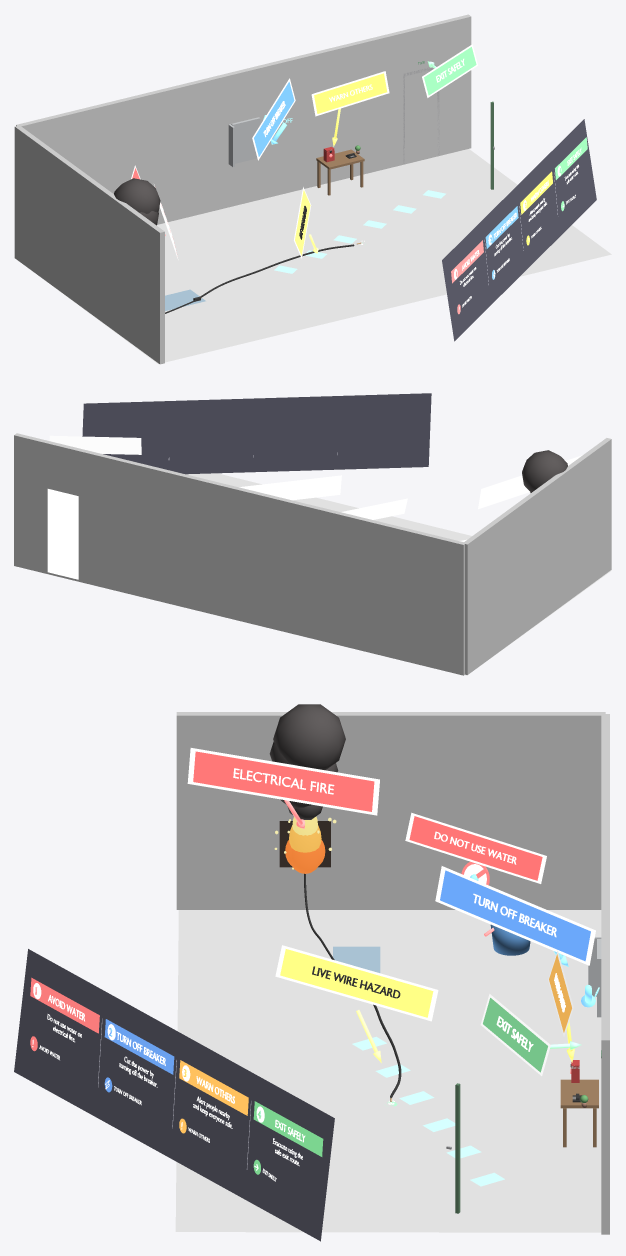
File: Electricalfinal1.glb
The picture shows the model from 3 angles, top to bottom: view 1: azimuth 30°, elevation 25°; view 2: azimuth 150°, elevation 25°; view 3: azimuth 270°, elevation 25°; orthographic projection. The views are drawn at different scales.
Parts seen in each view (by area): view 1: BackWall, Floor, LeftWall, StrMaster, LB_Warn, Smoke_4, LB_Exit, LB_Breaker, BreakerPanel, TableTop; view 2: BackWall, StrMaster, LeftWall, Outside, Floor, LR_Breaker, LR_Exit, Smoke_4, LR_Fire, LR_LiveWire; view 3: Floor, LeftWall, StrMaster, LB_Fire, BackWall, LB_Breaker, LB_LiveWire, Smoke_4, LB_NoWater, LB_Exit, LR_Fire, LR_Breaker (+12 smaller).
Part boxes in pixels (x1,y1,x2,y2): BackWall: (16, 14, 471, 224); Floor: (30, 149, 611, 363); LeftWall: (14, 125, 164, 364); StrMaster: (442, 119, 596, 341); LB_Warn: (314, 73, 387, 113); Smoke_4: (114, 178, 160, 213); LB_Exit: (424, 47, 476, 95); LB_Breaker: (254, 82, 294, 156); BreakerPanel: (231, 117, 260, 163); TableTop: (316, 149, 364, 169); BackWall: (14, 433, 465, 675); StrMaster: (82, 393, 431, 474); LeftWall: (463, 438, 611, 674); Outside: (47, 489, 78, 579); Floor: (186, 473, 611, 675); LR_Breaker: (239, 475, 341, 500); LR_Exit: (49, 435, 141, 454); Smoke_4: (522, 450, 567, 492); LR_Fire: (478, 455, 582, 509); LR_LiveWire: (341, 498, 407, 519); Floor: (175, 910, 601, 1232); LeftWall: (176, 712, 605, 909); StrMaster: (14, 949, 334, 1241); LB_Fire: (193, 751, 374, 811); BackWall: (601, 714, 609, 1234); LB_Breaker: (440, 870, 590, 961); LB_LiveWire: (280, 949, 433, 1017); Smoke_4: (273, 704, 345, 770); LB_NoWater: (409, 816, 542, 880); LB_Exit: (483, 998, 547, 1072); LR_Fire: (187, 748, 379, 815); LR_Breaker: (435, 866, 595, 965).
Size of the model in its own units: 19.35 by 5.55 by 13.94.
